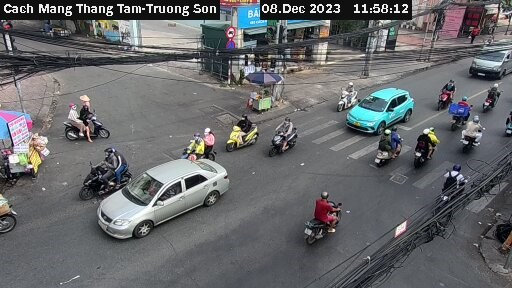car: (96, 159, 239, 229), (345, 86, 418, 135), (454, 32, 512, 79)
motorbike: (292, 196, 360, 243), (64, 155, 146, 192), (68, 102, 120, 148), (263, 118, 317, 159), (430, 162, 476, 208), (218, 113, 270, 150), (176, 126, 228, 159), (370, 124, 409, 165), (409, 123, 444, 165), (452, 111, 484, 147), (2, 185, 22, 242), (476, 80, 508, 115), (443, 96, 470, 127), (336, 85, 363, 111), (433, 84, 456, 104)
